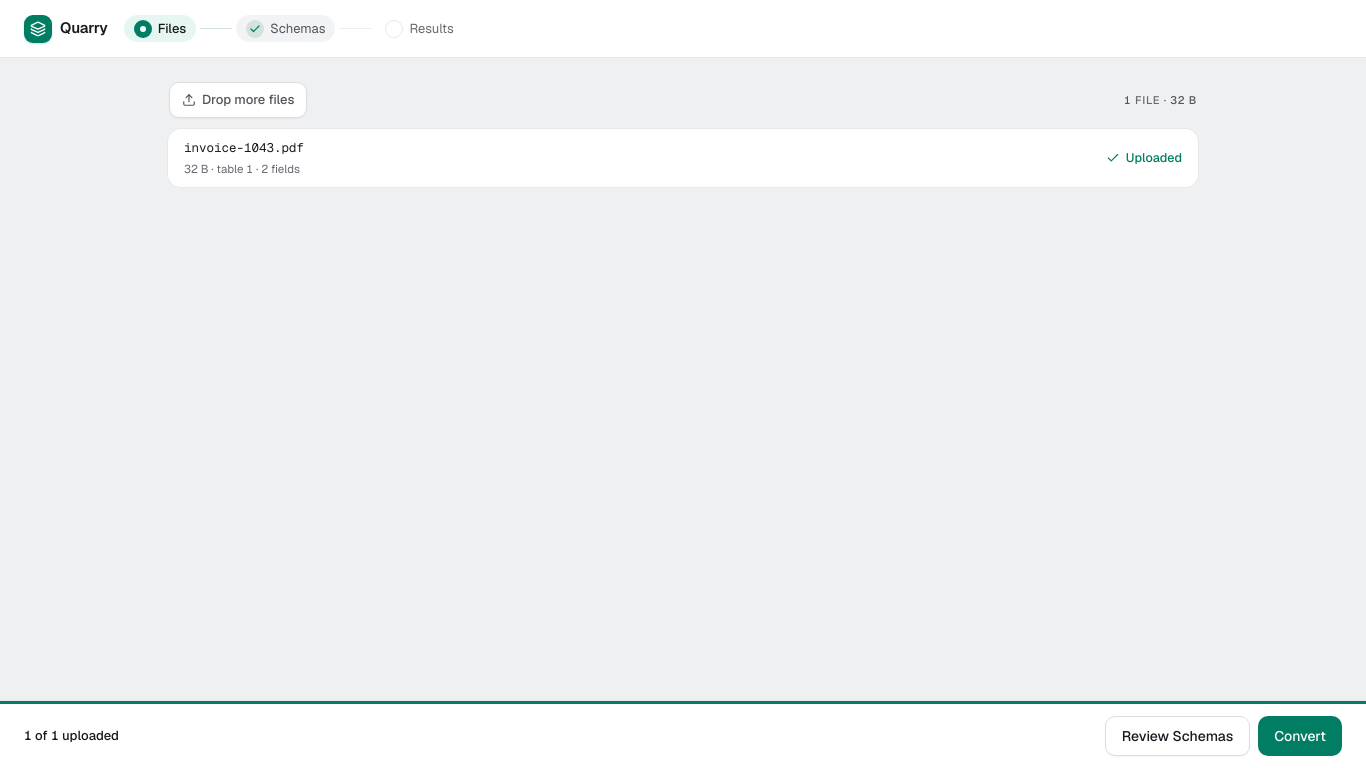
Test: the prepare screen › moves straight onto the batch, with one wait rather than two
Click the button "Convert" at (1300, 736), box [1258,716,1342,756]
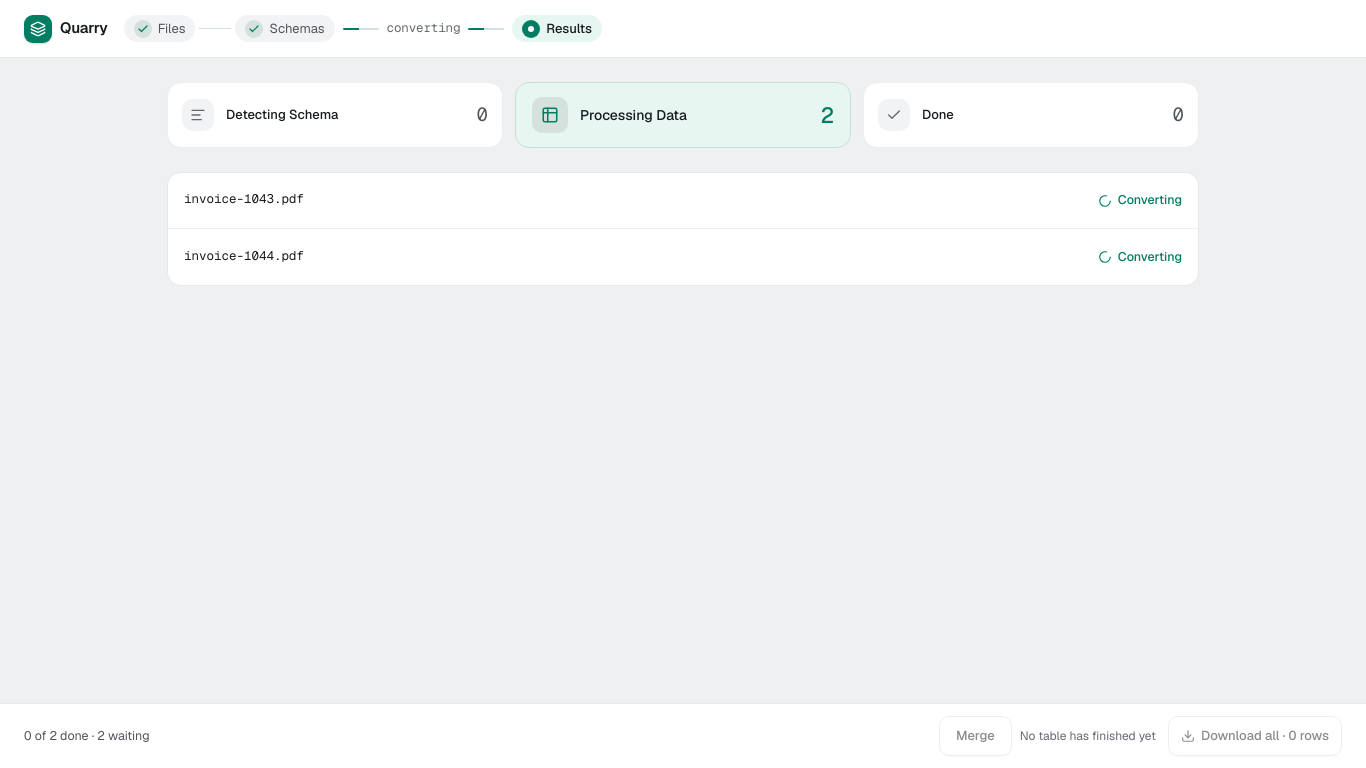
Expected: the text "0 of 2 done · 2 waiting" is shown, [24,727,150,745]
Expected: the text "invoice-1044.pdf" is shown, [184,247,304,264]
Expected: the text "Converting" is shown 2 times, [1098,188,1182,212]; [1098,245,1182,269]
